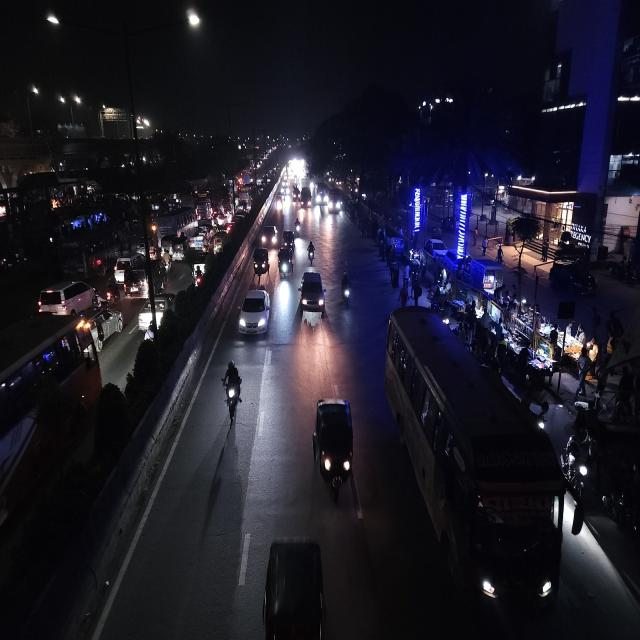bus: (384, 310, 569, 624), (152, 207, 195, 260), (325, 183, 343, 215), (193, 191, 212, 220), (236, 186, 252, 212), (300, 184, 312, 211), (314, 180, 326, 207)
car: (35, 276, 99, 316), (237, 284, 272, 342), (298, 266, 326, 328), (122, 261, 158, 300), (137, 298, 167, 332), (424, 234, 450, 262), (277, 241, 295, 281), (190, 260, 211, 292), (112, 255, 134, 282), (260, 221, 278, 248), (282, 228, 296, 253), (214, 212, 228, 232)
cng: (310, 395, 356, 502), (252, 244, 270, 280)
motorcycle: (563, 430, 595, 500), (219, 359, 245, 424), (339, 269, 354, 310), (191, 262, 206, 290), (306, 239, 316, 267), (294, 215, 302, 235)
pedestrian: (411, 274, 422, 306), (388, 262, 399, 290)
